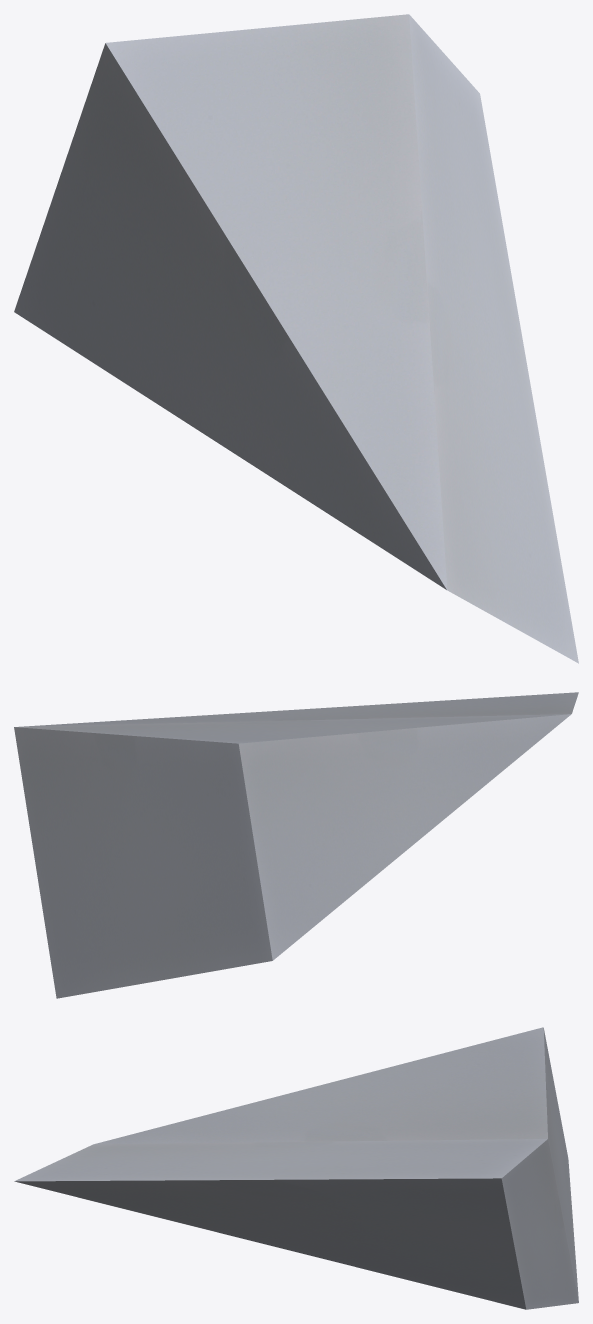
The model's file is PA10RightPaddle.obj.
The picture shows the model from 3 angles, top to bottom: view 1: azimuth 30°, elevation 25°; view 2: azimuth 150°, elevation 25°; view 3: azimuth 270°, elevation 25°; orthographic projection. The views are drawn at different scales.
Visible parts, largest first — view 1: Cube.001_Cube.002; view 2: Cube.001_Cube.002; view 3: Cube.001_Cube.002.
Part boxes in pixels (box(x1,y1,x2,y2)): Cube.001_Cube.002: box(14, 14, 578, 663); Cube.001_Cube.002: box(14, 692, 578, 998); Cube.001_Cube.002: box(14, 1027, 578, 1309).
Size of the model in its own units: 2.42 by 2.19 by 5.21.
1 material, 1 textured.
